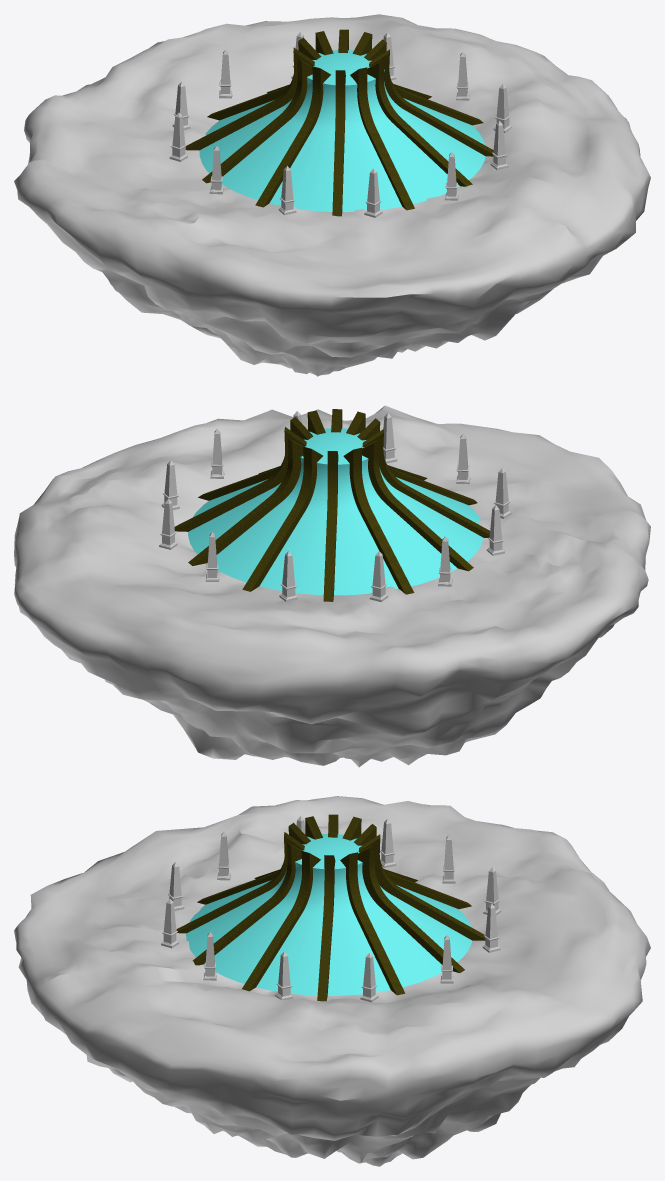
The model's file is Plataforma_Catedral.fbx.
3 views of the same model, one above another, from view 1: azimuth 30°, elevation 25°; view 2: azimuth 150°, elevation 25°; view 3: azimuth 270°, elevation 25° (orthographic). The views are drawn at different scales.
Visible parts, largest first — view 1: Plataforma rocosa A, Estructura catedral, Adorno [18957]001, Adorno [18957]002, Adorno [18957]011, Adorno [18957]010, Adorno [18957]003, Adorno [18957], Adorno [18957]009, Adorno [18957]008, Adorno [18957]004, Obelisco019 (+3 smaller); view 2: Plataforma rocosa A, Estructura catedral, Adorno [18957]005, Adorno [18957]006, Adorno [18957]003, Adorno [18957]002, Adorno [18957]007, Adorno [18957]004, Adorno [18957]001, Adorno [18957]008, Adorno [18957], Obelisco008 (+4 smaller); view 3: Plataforma rocosa A, Estructura catedral, Adorno [18957]006, Adorno [18957]007, Adorno [18957]009, Adorno [18957]005, Adorno [18957]010, Adorno [18957]008, Adorno [18957]011, Adorno [18957]004, Adorno [18957], Obelisco015 (+4 smaller).
Part boxes in pixels (bbox=[...]): Plataforma rocosa A: bbox=[14, 14, 650, 376]; Estructura catedral: bbox=[199, 50, 485, 212]; Adorno [18957]001: bbox=[255, 66, 330, 207]; Adorno [18957]002: bbox=[202, 58, 312, 183]; Adorno [18957]011: bbox=[350, 67, 414, 210]; Adorno [18957]010: bbox=[367, 60, 472, 186]; Adorno [18957]003: bbox=[185, 47, 314, 150]; Adorno [18957]: bbox=[332, 70, 345, 216]; Adorno [18957]009: bbox=[369, 49, 493, 156]; Adorno [18957]008: bbox=[364, 39, 483, 125]; Adorno [18957]004: bbox=[207, 37, 321, 120]; Obelisco019: bbox=[169, 112, 187, 161]; Plataforma rocosa A: bbox=[14, 405, 650, 767]; Estructura catedral: bbox=[188, 428, 483, 595]; Adorno [18957]005: bbox=[242, 446, 322, 591]; Adorno [18957]006: bbox=[188, 438, 303, 565]; Adorno [18957]003: bbox=[343, 447, 414, 594]; Adorno [18957]002: bbox=[362, 439, 473, 571]; Adorno [18957]007: bbox=[174, 427, 306, 531]; Adorno [18957]004: bbox=[323, 451, 338, 601]; Adorno [18957]001: bbox=[362, 429, 489, 537]; Adorno [18957]008: bbox=[198, 417, 313, 500]; Adorno [18957]: bbox=[357, 418, 477, 505]; Obelisco008: bbox=[369, 551, 388, 601]; Plataforma rocosa A: bbox=[14, 796, 650, 1166]; Estructura catedral: bbox=[186, 833, 471, 995]; Adorno [18957]006: bbox=[357, 844, 464, 972]; Adorno [18957]007: bbox=[340, 852, 405, 995]; Adorno [18957]009: bbox=[242, 851, 320, 991]; Adorno [18957]005: bbox=[358, 834, 485, 940]; Adorno [18957]010: bbox=[192, 842, 303, 965]; Adorno [18957]008: bbox=[317, 855, 335, 1001]; Adorno [18957]011: bbox=[176, 832, 304, 933]; Adorno [18957]004: bbox=[354, 824, 471, 909]; Adorno [18957]: bbox=[197, 822, 310, 904]; Obelisco015: bbox=[161, 899, 179, 948].
Size of the model in its own units: 11101 by 5790 by 11098.
